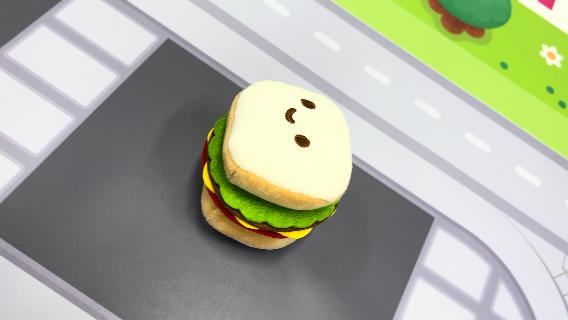sandwich: (198, 77, 356, 250)
